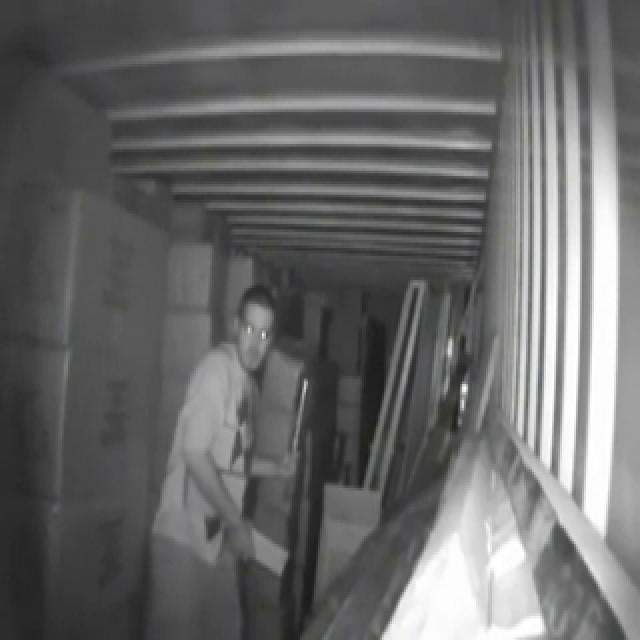burglary: (0, 29, 386, 640)
